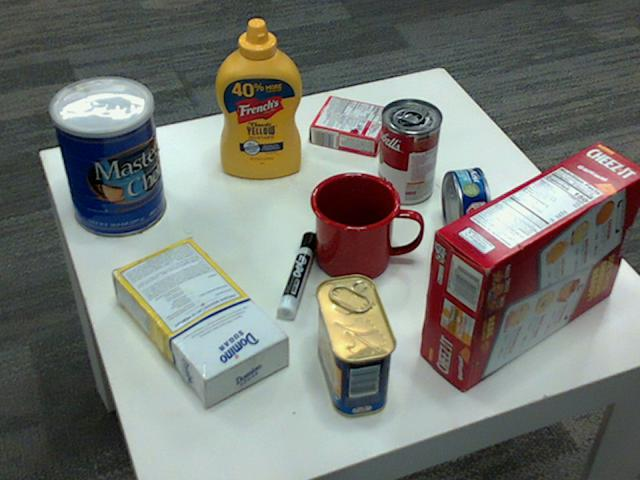cracker_box: (418, 141, 639, 389)
gelatin_box: (311, 95, 394, 154)
large_marker: (275, 233, 317, 324)
master_chef_can: (48, 76, 164, 237)
mug: (309, 169, 420, 279)
mustard_bottle: (215, 19, 301, 177)
potted_meat_can: (314, 275, 397, 416)
sugar_box: (109, 235, 286, 402)
tomato_soup_can: (376, 99, 441, 205)
tuna_fish_can: (440, 167, 490, 247)
